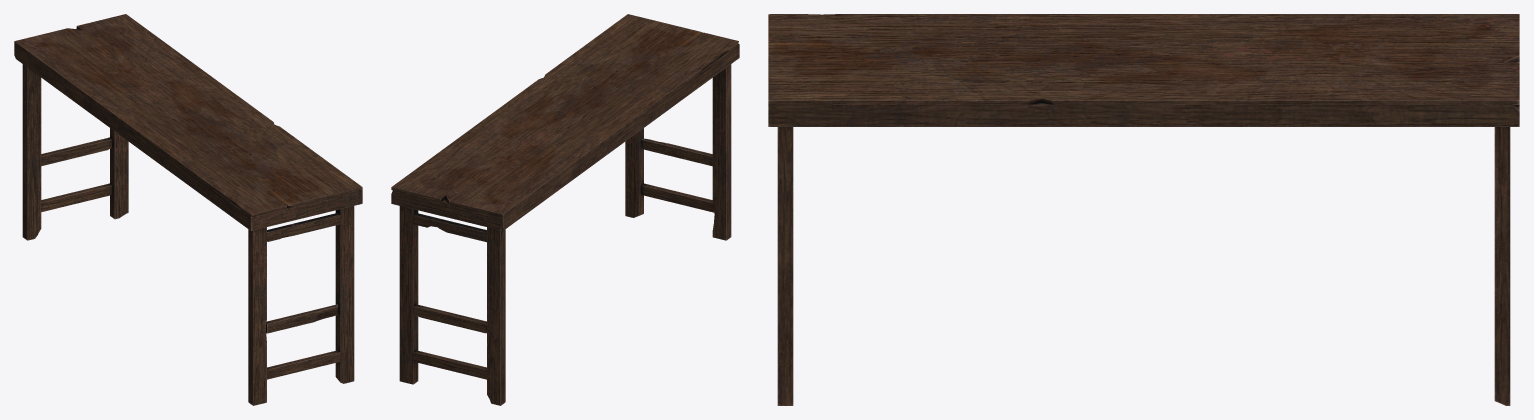
File: MesaCocina.fbx
The picture shows the model from 3 angles, left to right: view 1: azimuth 30°, elevation 25°; view 2: azimuth 150°, elevation 25°; view 3: azimuth 270°, elevation 25°; orthographic projection. The views are drawn at different scales.
Parts seen in each view (by area): view 1: Old Table Small 2K; view 2: Old Table Small 2K; view 3: Old Table Small 2K.
Part boxes in pixels (x1,y1,x2,y2): Old Table Small 2K: (14,14,362,405); Old Table Small 2K: (391,14,739,405); Old Table Small 2K: (768,14,1519,405).
Bounding box in the file's own units: 114 × 191 × 420.
1 material, 1 textured.
